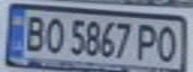5: (66, 16, 87, 56)
6: (100, 19, 118, 58)
7: (115, 19, 136, 60)
8: (81, 18, 103, 57)
B: (18, 12, 48, 52)
O: (154, 22, 181, 63), (42, 15, 69, 55)
P: (133, 20, 163, 61)
